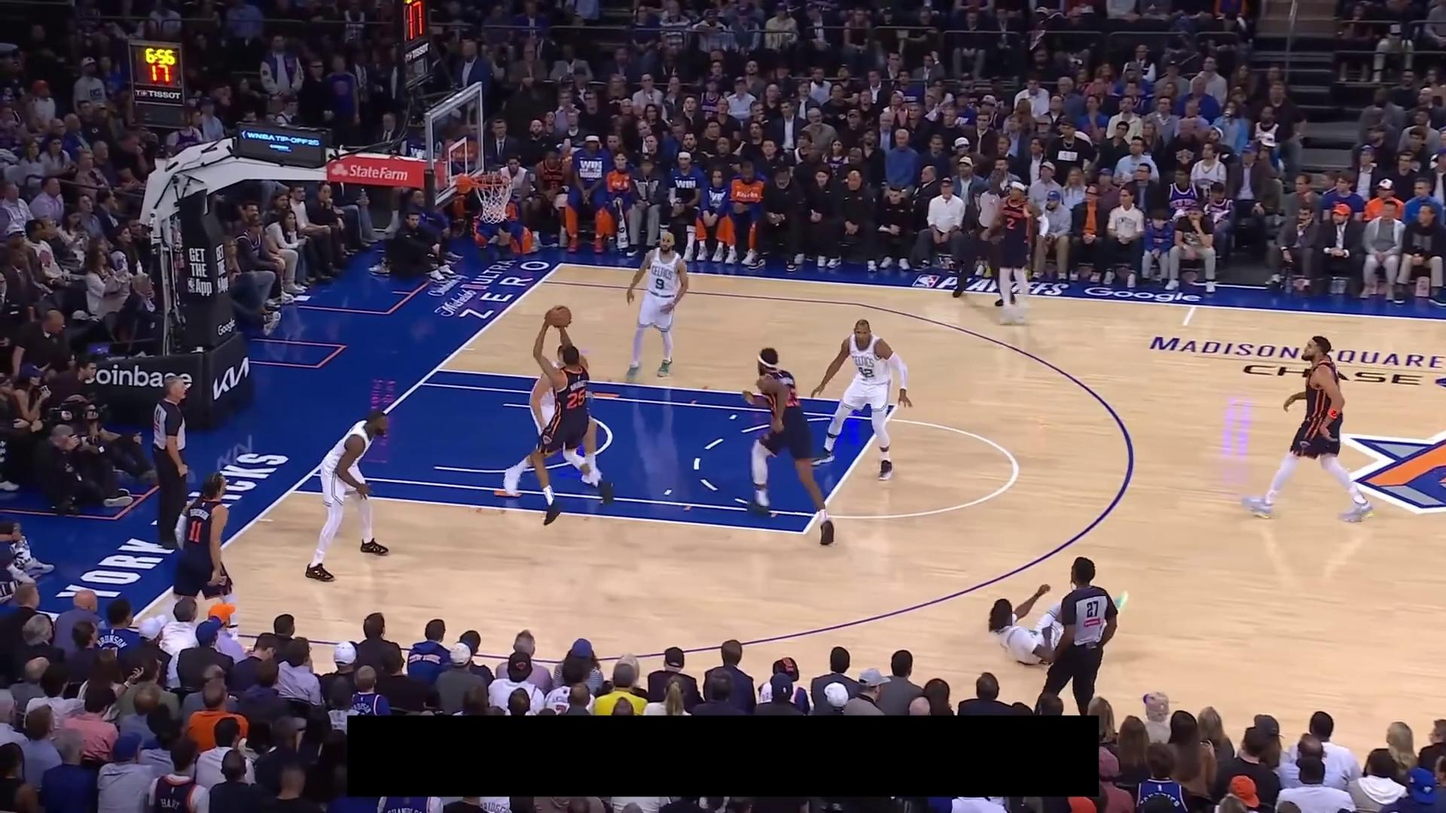ball: (548, 305, 571, 327)
number: (567, 388, 587, 409), (189, 519, 203, 544), (856, 364, 875, 381), (654, 276, 666, 291), (1005, 216, 1016, 230)
player: (1241, 334, 1375, 523), (740, 346, 837, 547), (808, 316, 915, 483), (304, 405, 393, 583), (503, 345, 602, 496), (989, 584, 1128, 667), (170, 470, 238, 632), (625, 231, 689, 383), (984, 179, 1041, 327)
player-jump-shot: (529, 309, 614, 526)
referee: (1042, 557, 1120, 715), (953, 169, 1013, 301), (151, 376, 192, 550)
rim: (469, 172, 511, 188)
